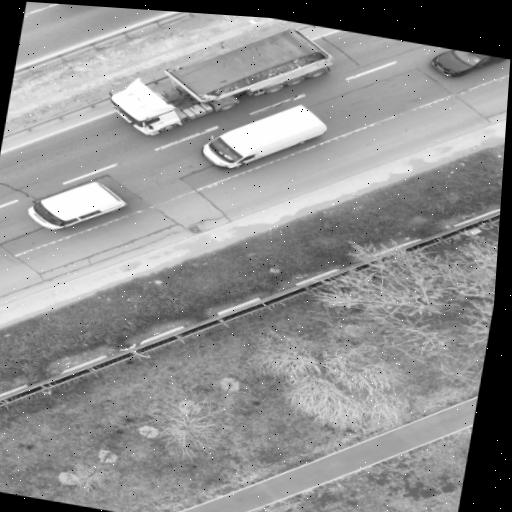car: (203, 105, 326, 168), (29, 183, 126, 229), (433, 49, 505, 76)
truck: (111, 29, 332, 135)
